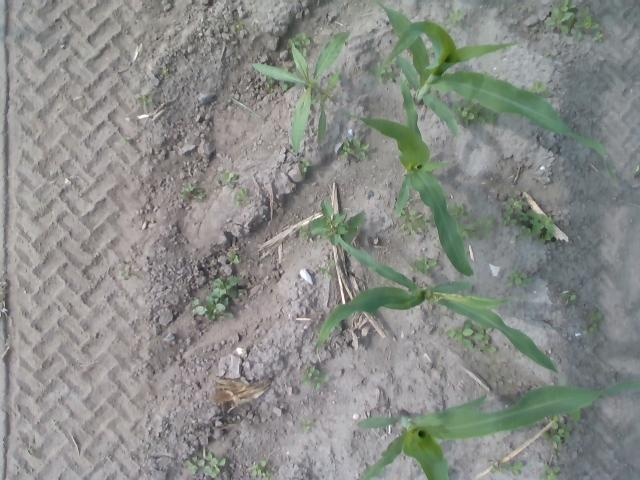Maize: (378, 6, 618, 182), (314, 232, 560, 376), (353, 377, 639, 479), (342, 76, 474, 274)
Weeds: (250, 31, 354, 156), (502, 190, 553, 247), (308, 199, 365, 250), (550, 1, 608, 45), (447, 324, 498, 360), (332, 134, 375, 164), (184, 450, 224, 478), (459, 102, 496, 132), (192, 296, 236, 321), (548, 416, 570, 458), (488, 454, 526, 477), (464, 214, 494, 242), (212, 277, 245, 299), (507, 266, 532, 294), (301, 368, 325, 394), (402, 212, 426, 238), (588, 305, 606, 338), (296, 418, 324, 436), (180, 184, 208, 201), (410, 258, 438, 274), (248, 458, 268, 478), (218, 170, 238, 190), (296, 35, 314, 57), (266, 77, 292, 91), (452, 200, 467, 223), (234, 190, 253, 207), (138, 92, 152, 114), (116, 268, 140, 280), (228, 246, 242, 266), (543, 466, 565, 478), (532, 82, 548, 98), (298, 156, 312, 172), (564, 290, 576, 308), (234, 23, 249, 37)
